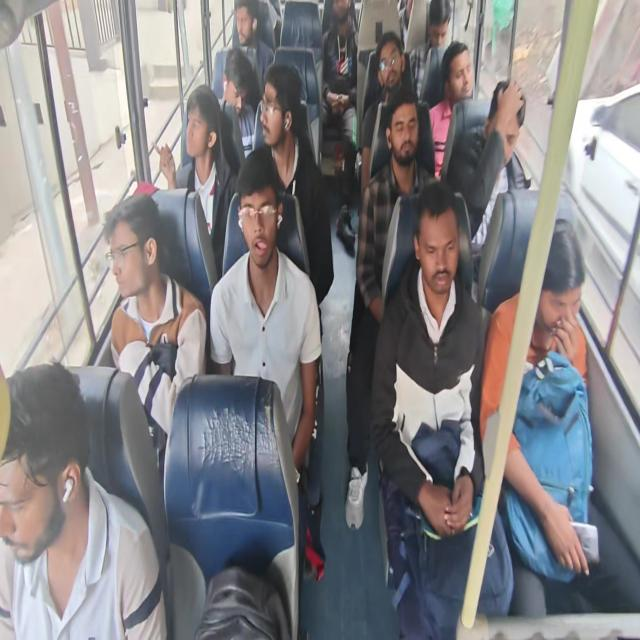person: (0, 390, 101, 555), (101, 204, 162, 298), (418, 213, 467, 295), (543, 250, 581, 345), (240, 176, 278, 258), (183, 95, 218, 161), (479, 104, 520, 160), (257, 80, 291, 144), (220, 59, 251, 118), (390, 103, 418, 166), (372, 45, 406, 94), (444, 49, 474, 98), (232, 6, 258, 54), (324, 0, 356, 33), (429, 8, 447, 49)
